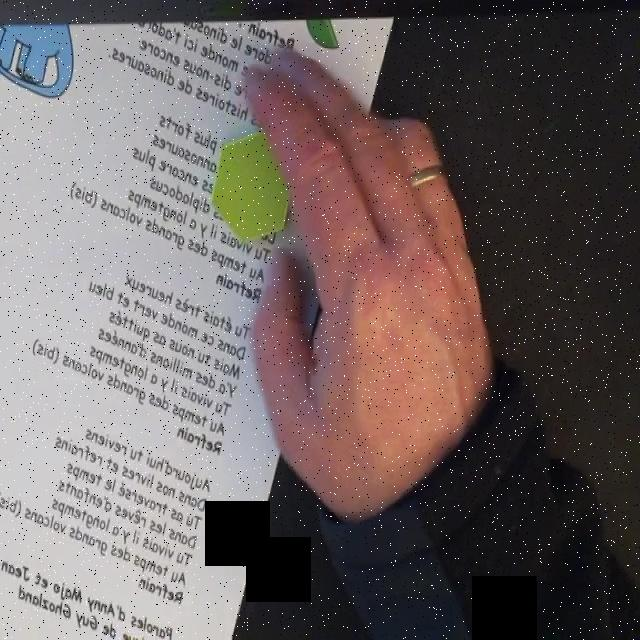hexagon: (210, 129, 297, 245)
